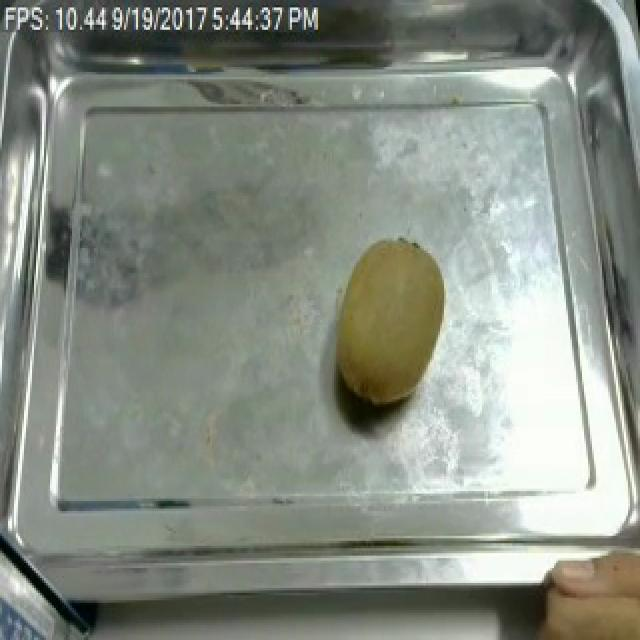Fruit: (324, 233, 456, 417), (510, 533, 640, 640)
